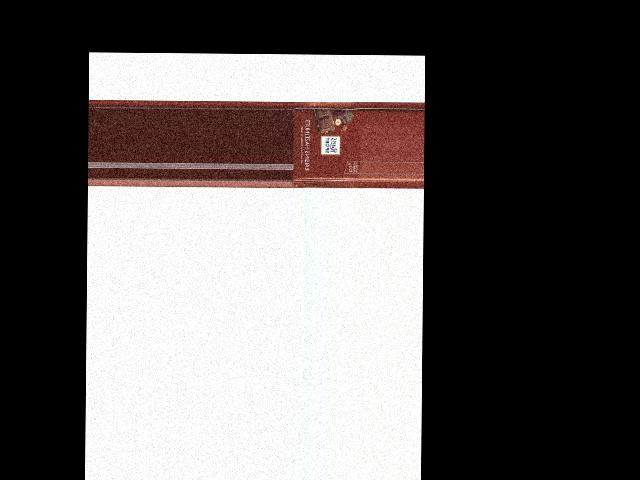chocolate: (292, 99, 360, 188)
